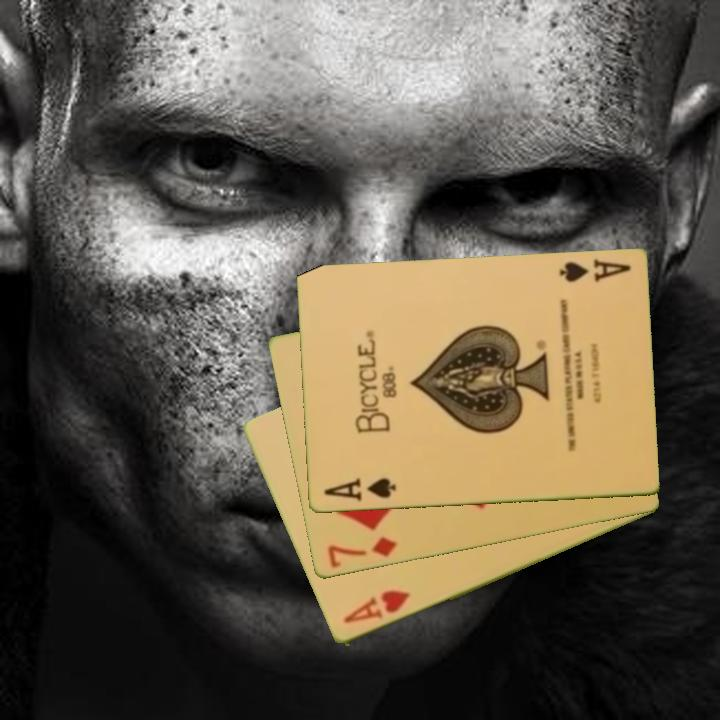7d: (323, 533, 400, 572)
Ah: (340, 587, 413, 627)
As: (320, 475, 398, 505), (555, 256, 633, 286)
